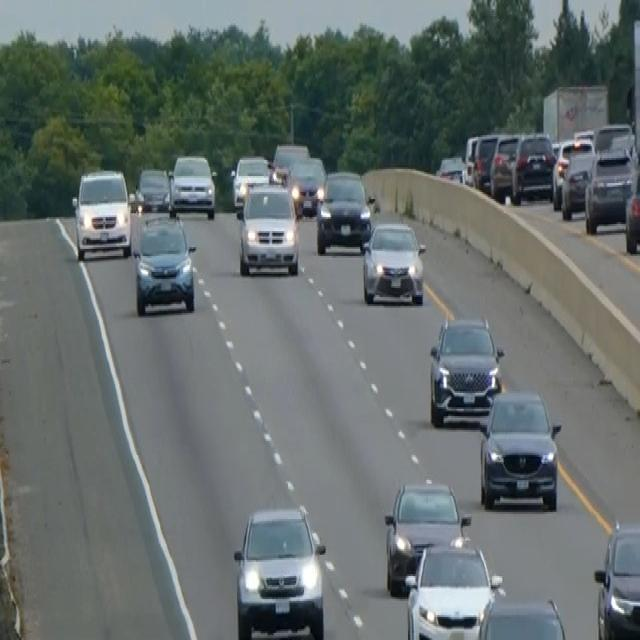car: (232, 502, 327, 638), (478, 386, 562, 512), (404, 532, 503, 638), (383, 478, 471, 596), (428, 311, 504, 427), (360, 217, 426, 306), (583, 121, 635, 233), (593, 518, 639, 638), (315, 167, 372, 254), (475, 594, 568, 638), (511, 130, 555, 202), (170, 151, 216, 219), (560, 137, 595, 219), (230, 153, 271, 213), (287, 155, 326, 217), (489, 132, 521, 199), (133, 164, 172, 214), (550, 137, 575, 208), (471, 132, 499, 190), (271, 141, 309, 183), (624, 148, 639, 254), (435, 153, 466, 183), (462, 131, 479, 185)
jeep: (130, 208, 197, 316)
minivan: (235, 178, 300, 277), (70, 164, 133, 262)
